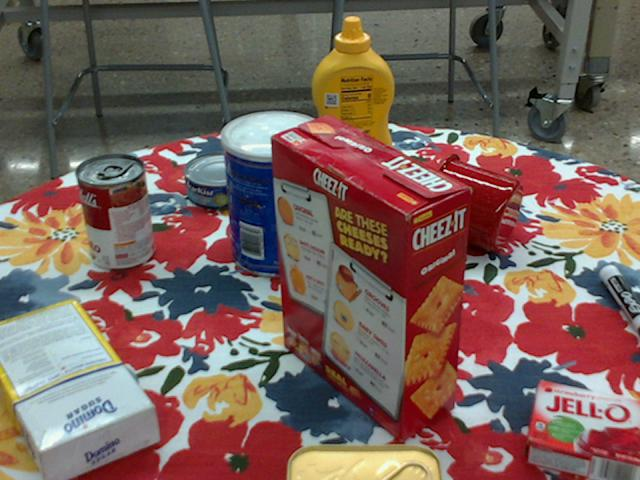cracker_box: (269, 118, 468, 444)
gelatin_box: (523, 380, 639, 479)
large_marker: (599, 262, 639, 333)
master_chef_can: (220, 110, 326, 277)
mug: (421, 153, 521, 250)
mustard_bottle: (311, 17, 393, 182)
potted_meat_can: (285, 445, 442, 479)
sugar_box: (0, 302, 158, 479)
tomato_soup_can: (76, 154, 153, 270)
tuna_fish_can: (185, 151, 259, 208)
